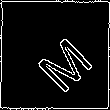M_NW: (21, 21, 89, 89)
